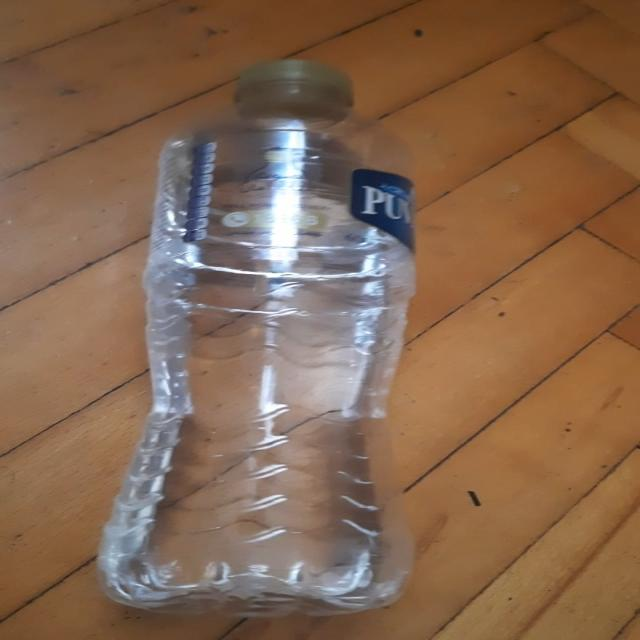Plastic: (95, 60, 416, 630)
